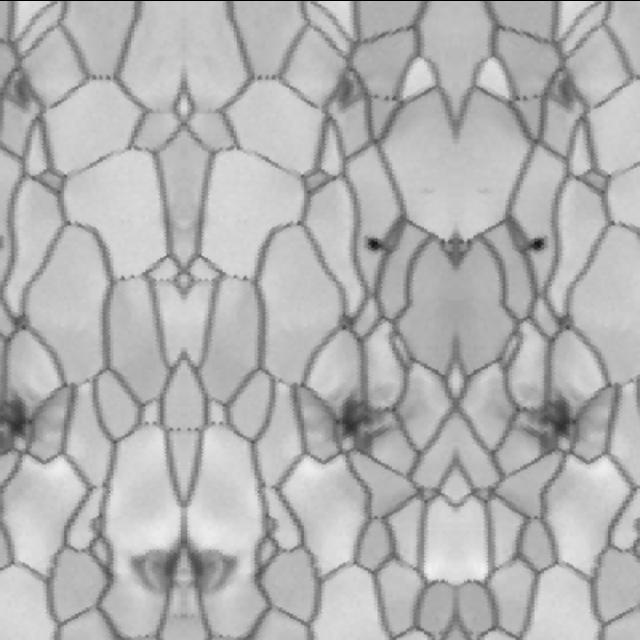good_void: (294, 366, 402, 458), (509, 366, 617, 458), (0, 366, 72, 458), (187, 539, 239, 592), (127, 539, 179, 592), (326, 68, 367, 112), (0, 68, 40, 112), (545, 68, 585, 112), (355, 232, 390, 257), (522, 232, 556, 257), (0, 236, 11, 255), (522, 92, 530, 102), (371, 92, 380, 100), (382, 92, 389, 102), (532, 92, 540, 100), (389, 94, 395, 103), (516, 94, 522, 103)
